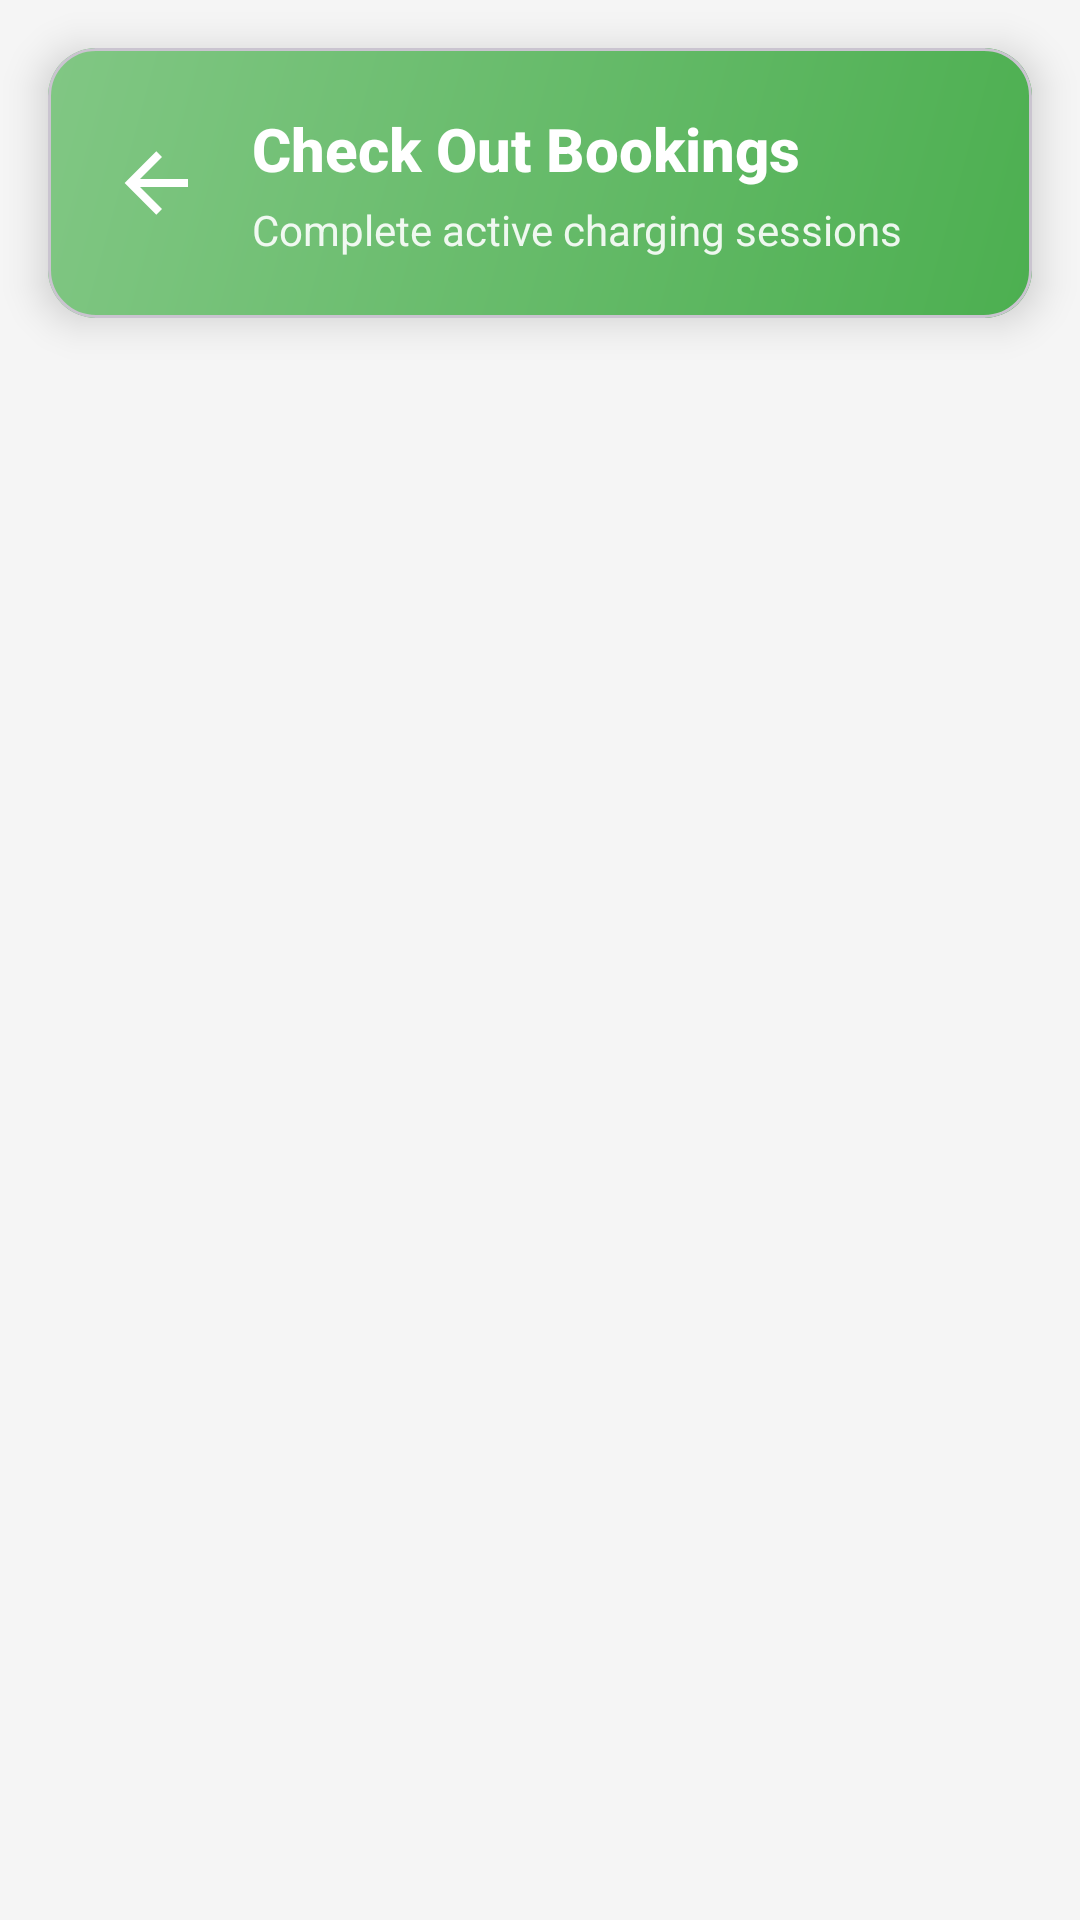

Icons on this 1080 × 1920 Android screen, each with its box as bbox=(x1, y1, x2, y2):
arrow back: bbox=(125, 151, 188, 215)
